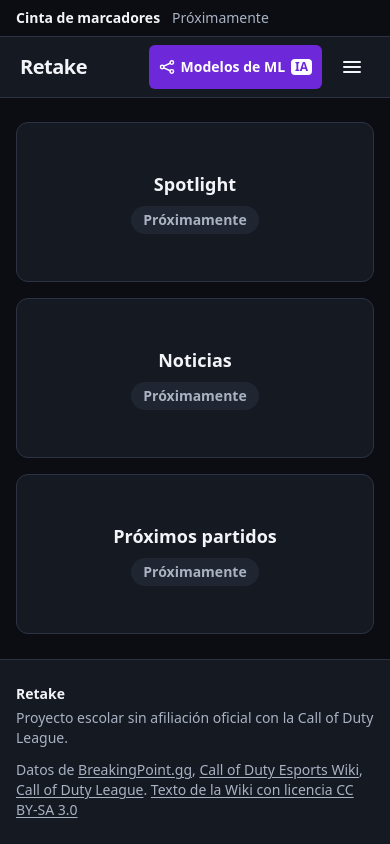
Test: menú plegado (RF-16 a RF-22, RF-82, RF-83) › pulsar fuera del panel lo cierra
The image size is (390, 844).
What coordinates should you click on to do the following:
click the button named "menú"
I would click on:
 (352, 67)
Its box is [330,45,374,89].
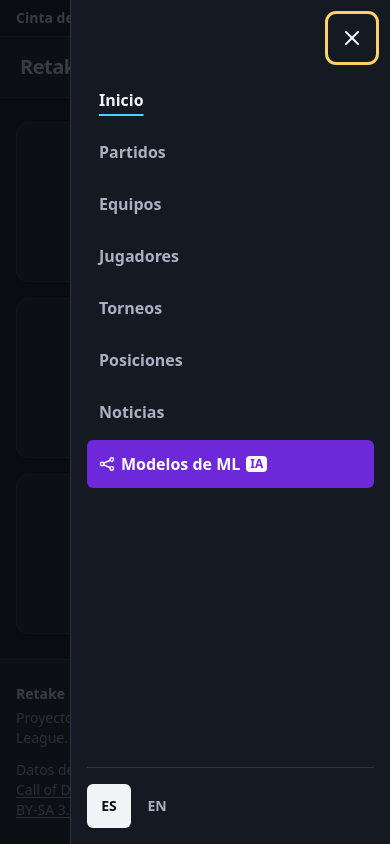
What coordinates should you click on to do the following:
click the element with test id "nav-backdrop"
I would click on:
 (23, 422)
Its box is [0,0,389,843].
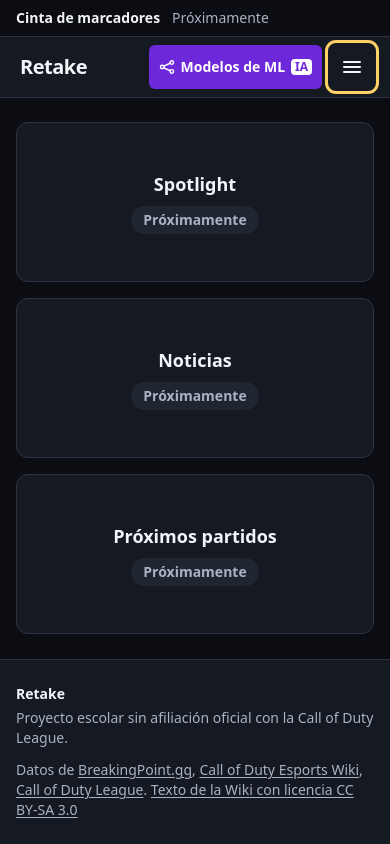
Now the dialog is gone
